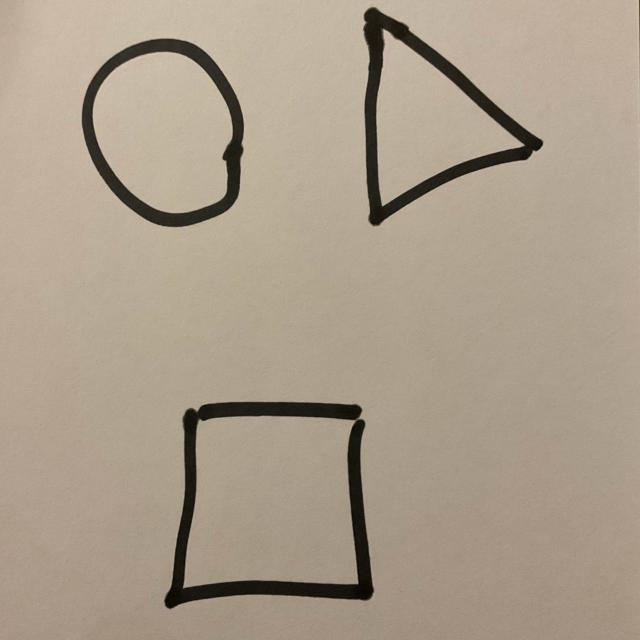Dreieck: (362, 8, 544, 229)
Kreis: (79, 38, 246, 230)
Quadrat: (164, 402, 374, 611)
